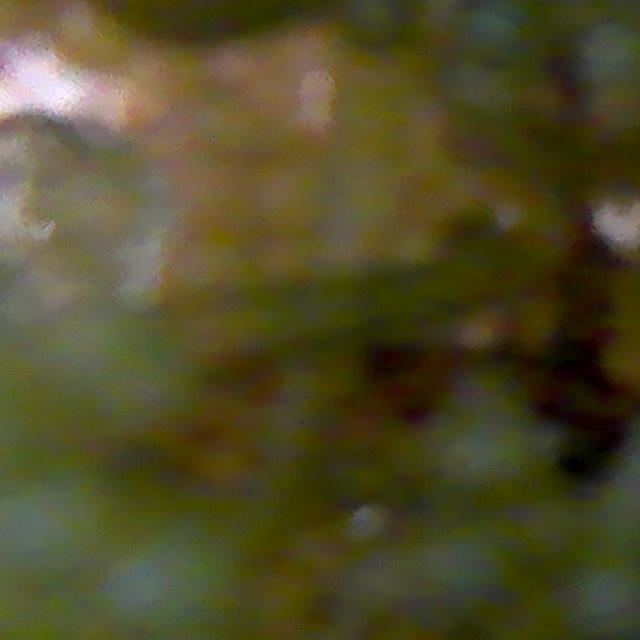SeaGrape: (101, 528, 236, 640), (569, 557, 640, 639), (577, 17, 640, 91), (462, 0, 535, 63)
